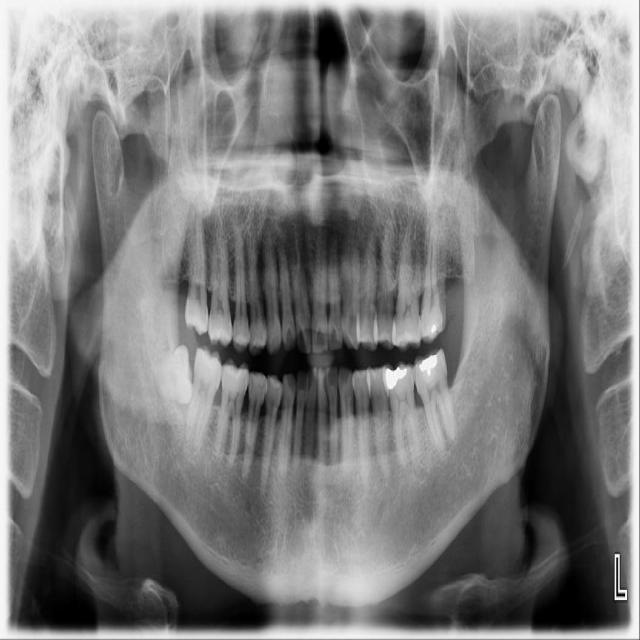Filling: (386, 367, 407, 390), (418, 355, 437, 376), (432, 325, 436, 333)
impacted tooth: (149, 344, 195, 400)
